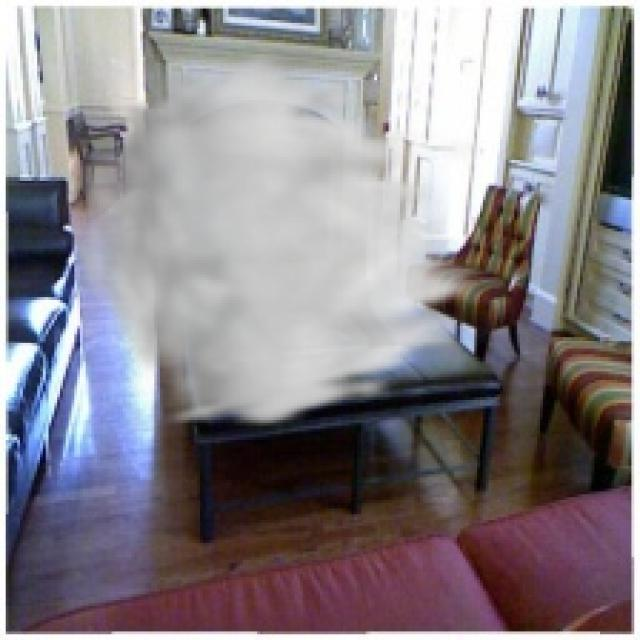Smoke: (66, 46, 492, 432)
